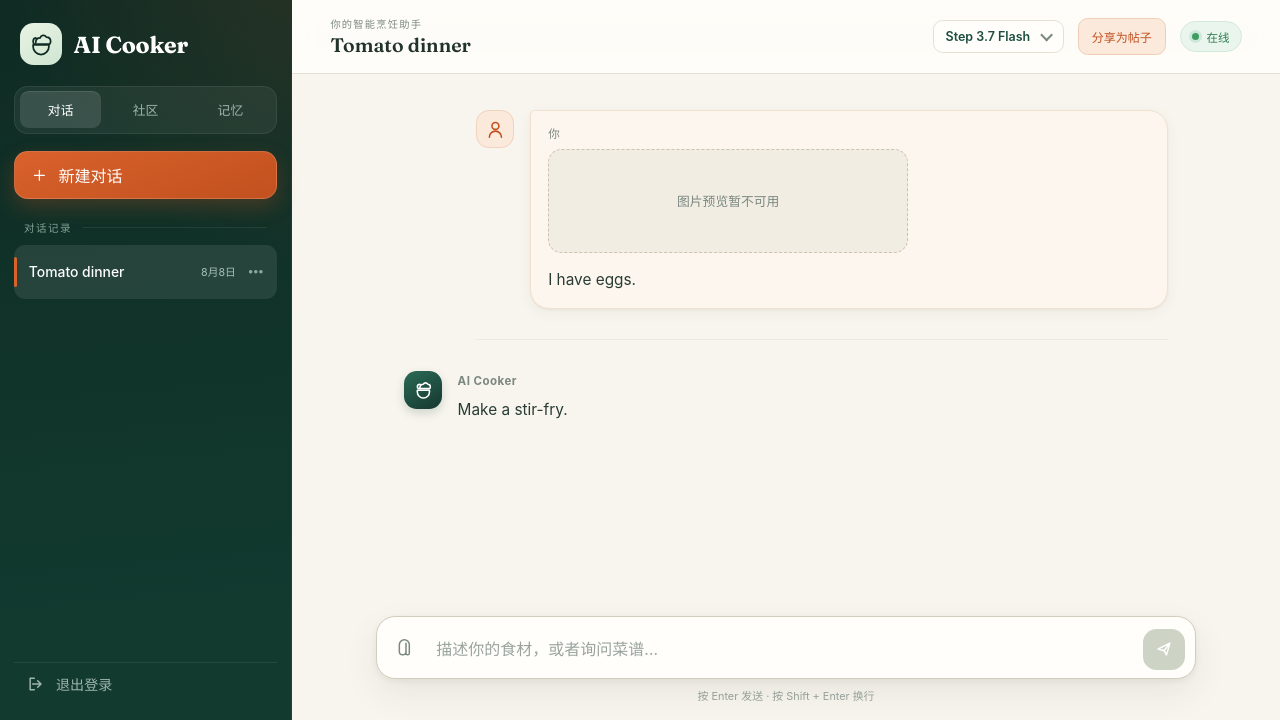
conversation forum draft flow › shows generation failure without navigating or publishing
This screenshot has width=1280, height=720.
Click the button with class "share-post-button".
click(1122, 36)  # box [1078, 18, 1166, 55]
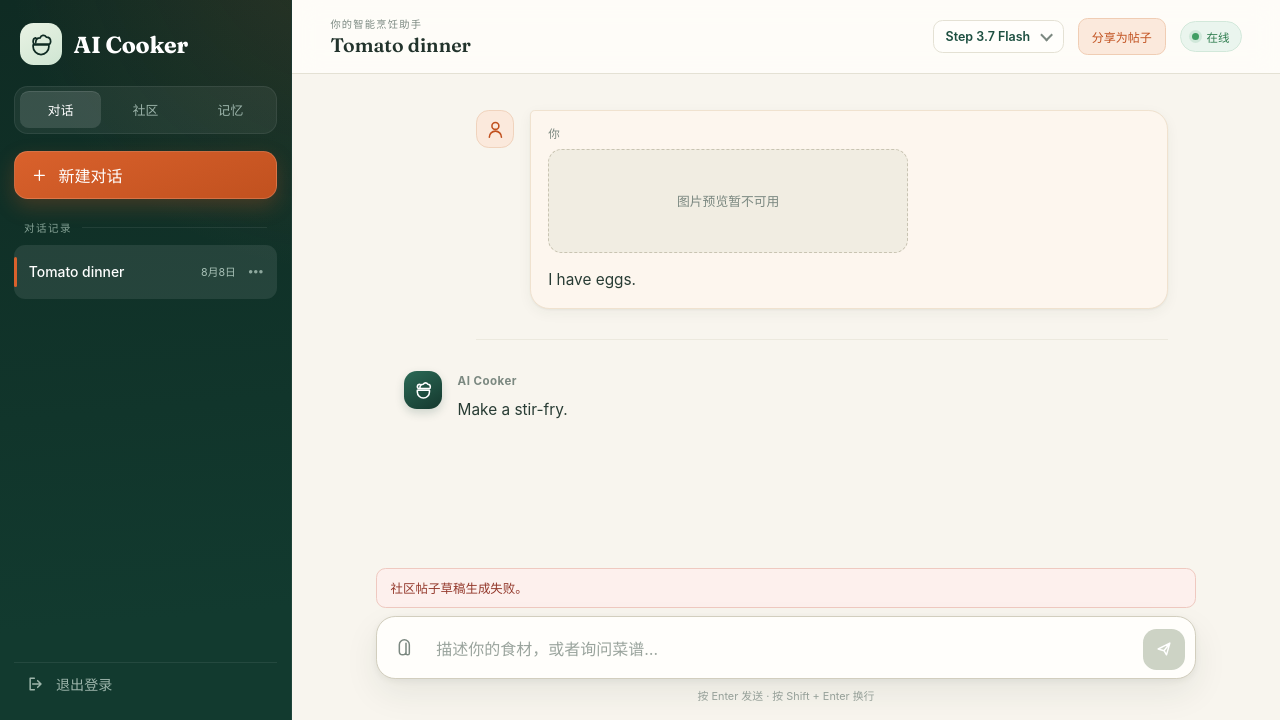
Result: the message with class "inline-error" shows "社区帖子草稿生成失败" at [391, 581, 528, 596]
